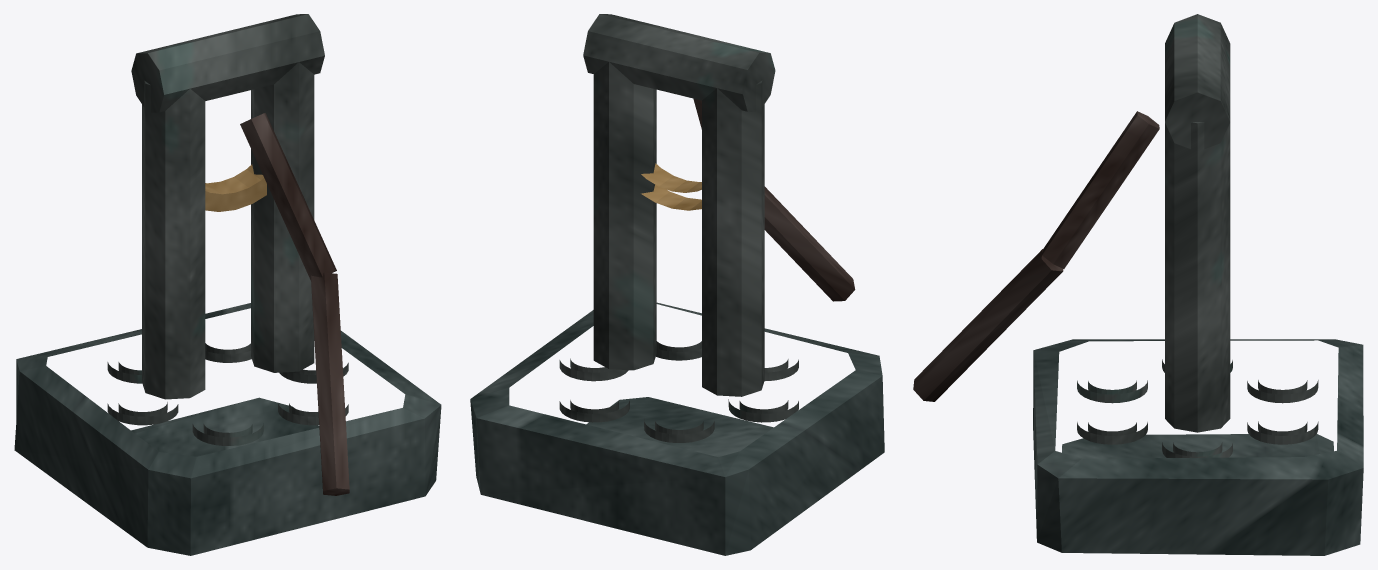
Rendered from 0684_rope_anchor_09.glb.
3 views of the same model, side by side, from view 1: azimuth 30°, elevation 25°; view 2: azimuth 150°, elevation 25°; view 3: azimuth 270°, elevation 25° (orthographic).
Visible parts, largest first — view 1: iron, stone_dark, wood_dark, brass; view 2: iron, stone_dark, wood_dark, brass; view 3: stone_dark, iron, wood_dark.
Part boxes in pixels (x1=…): iron: x1=107, y1=14, x2=348, y2=445; stone_dark: x1=14, y1=303, x2=441, y2=555; wood_dark: x1=240, y1=113, x2=349, y2=495; brass: x1=205, y1=164, x2=266, y2=211; iron: x1=559, y1=14, x2=798, y2=442; stone_dark: x1=470, y1=302, x2=884, y2=555; wood_dark: x1=693, y1=98, x2=855, y2=301; brass: x1=641, y1=163, x2=701, y2=210; stone_dark: x1=1033, y1=339, x2=1363, y2=555; iron: x1=1077, y1=14, x2=1318, y2=457; wood_dark: x1=913, y1=111, x2=1159, y2=401.
Size of the model in its own units: 1.22 by 1.78 by 1.65.
4 materials, 4 textured.
